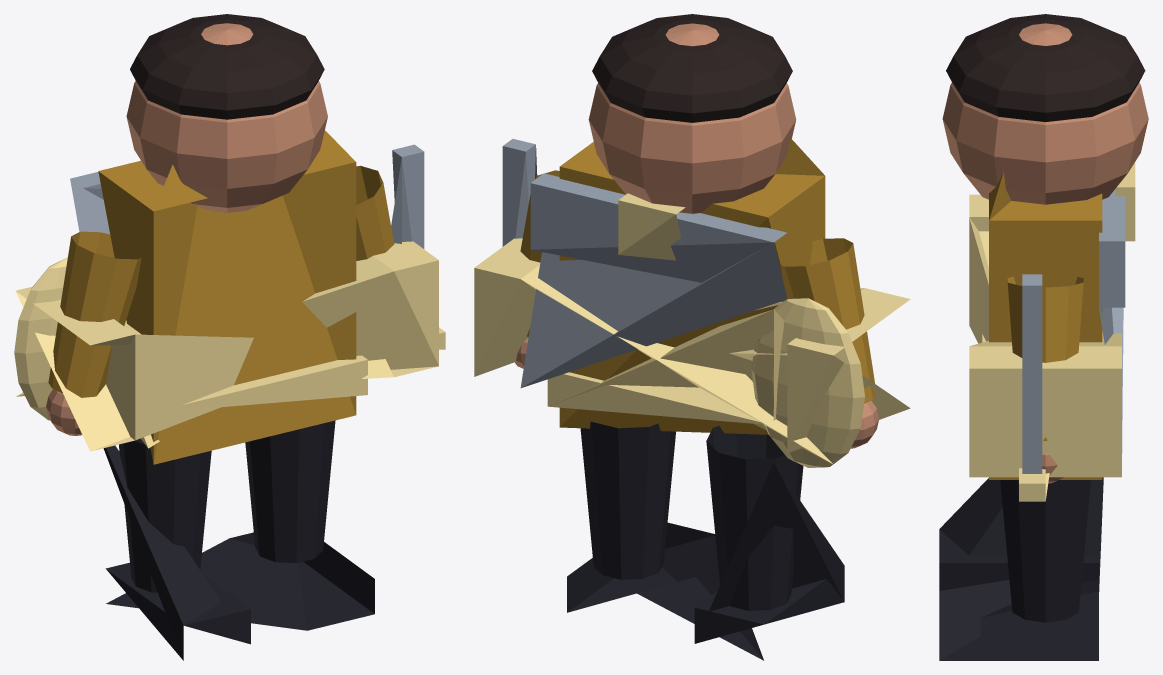
File: Paladin_Male.obj
3 renders of one model, left to right at view 1: azimuth 30°, elevation 25°; view 2: azimuth 150°, elevation 25°; view 3: azimuth 270°, elevation 25°, orthographic. The views are drawn at different scales.
Parts seen in each view (by area): view 1: Paladin_Male; view 2: Paladin_Male; view 3: Paladin_Male.
Boxes of the visible parts, <box> form: Paladin_Male: <box>14,14,445,660</box>; Paladin_Male: <box>474,14,910,660</box>; Paladin_Male: <box>939,14,1148,660</box>.
Size of the model in its own units: 1.41 by 1.93 by 0.63.
